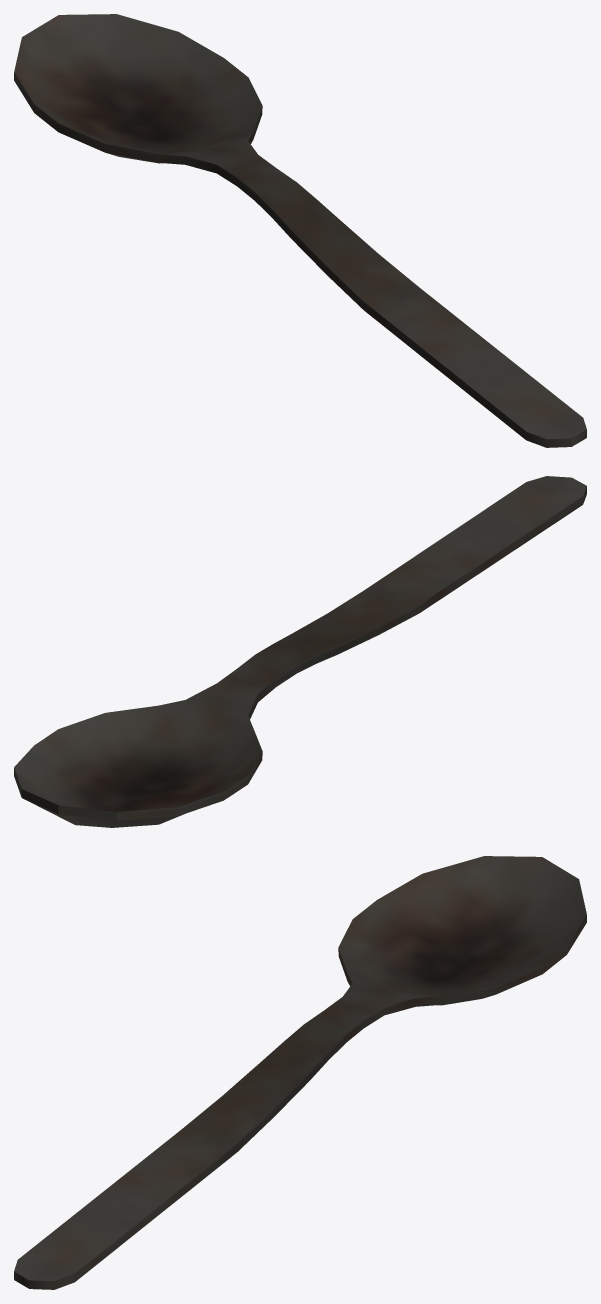
The model's file is spoon_mp_1.obj.
3 renders of one model, top to bottom at view 1: azimuth 30°, elevation 25°; view 2: azimuth 150°, elevation 25°; view 3: azimuth 330°, elevation 25°, orthographic.
Visible parts, largest first — view 1: spoon_mp_1; view 2: spoon_mp_1; view 3: spoon_mp_1.
Boxes of the visible parts, <box> form: spoon_mp_1: <box>14,14,586,447</box>; spoon_mp_1: <box>14,476,586,827</box>; spoon_mp_1: <box>14,856,586,1289</box>.
Size of the model in its own units: 0.0585 by 0.0168 by 0.2741.
